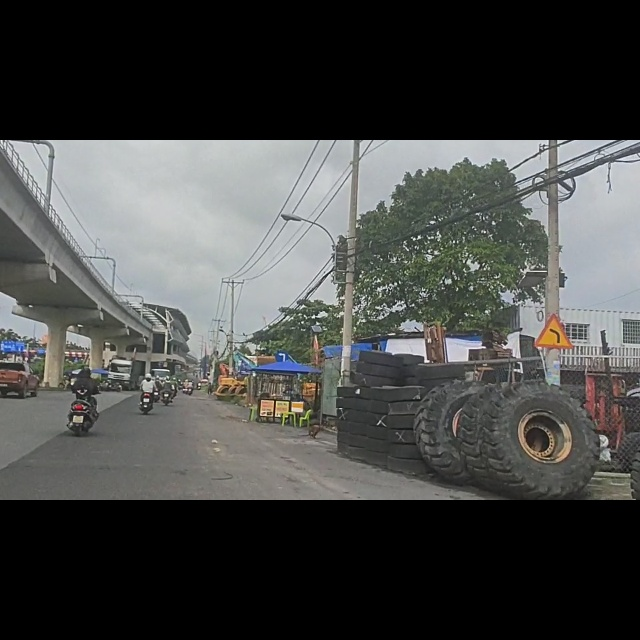bien_chi_dan: (535, 307, 576, 372), (275, 373, 289, 396)
